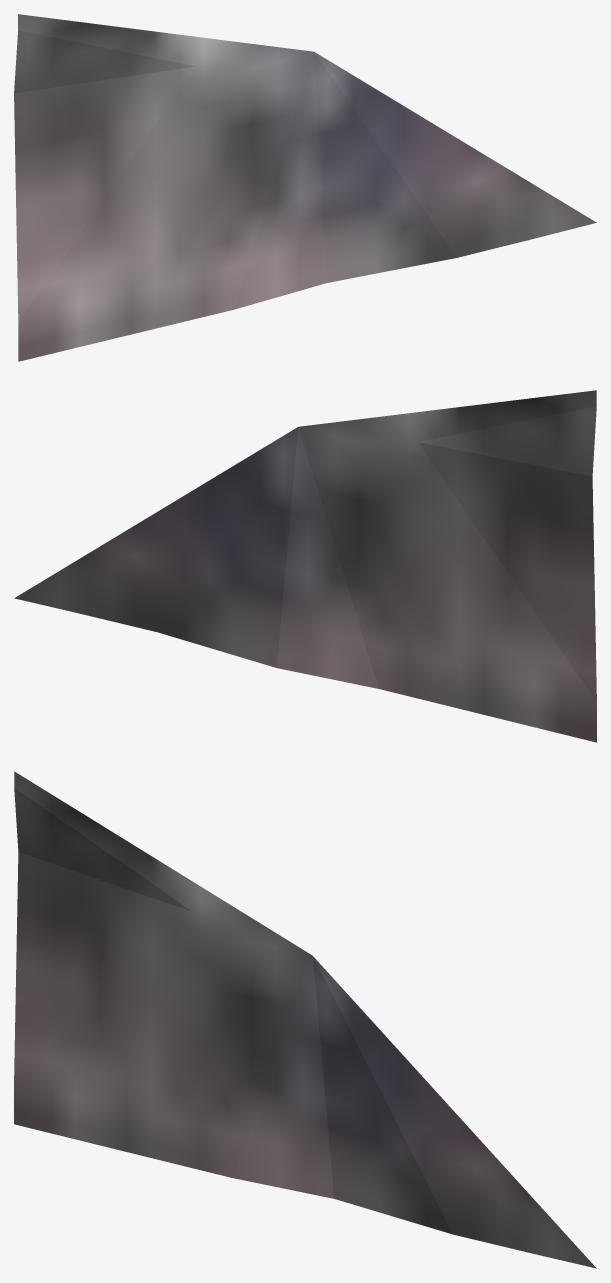
3 renders of one model, top to bottom at view 1: azimuth 30°, elevation 25°; view 2: azimuth 150°, elevation 25°; view 3: azimuth 330°, elevation 25°, orthographic.
Visible parts, largest first — view 1: 0_2_0_2; view 2: 0_2_0_2; view 3: 0_2_0_2.
Boxes of the visible parts, box(x1,y1,x2,y2) form: 0_2_0_2: box(14, 14, 596, 361); 0_2_0_2: box(14, 390, 596, 742); 0_2_0_2: box(14, 771, 596, 1268).
Size of the model in its own units: 51.32 by 29.56 by 1.16.
Materials: 1 (1 with a texture image).
